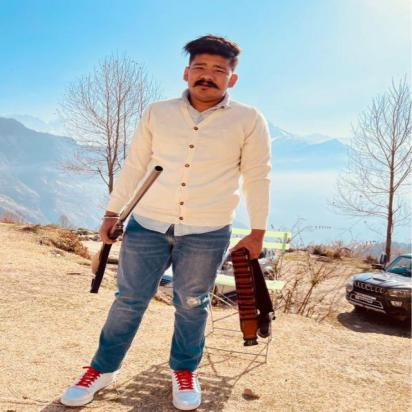Gun: (86, 163, 167, 295)
